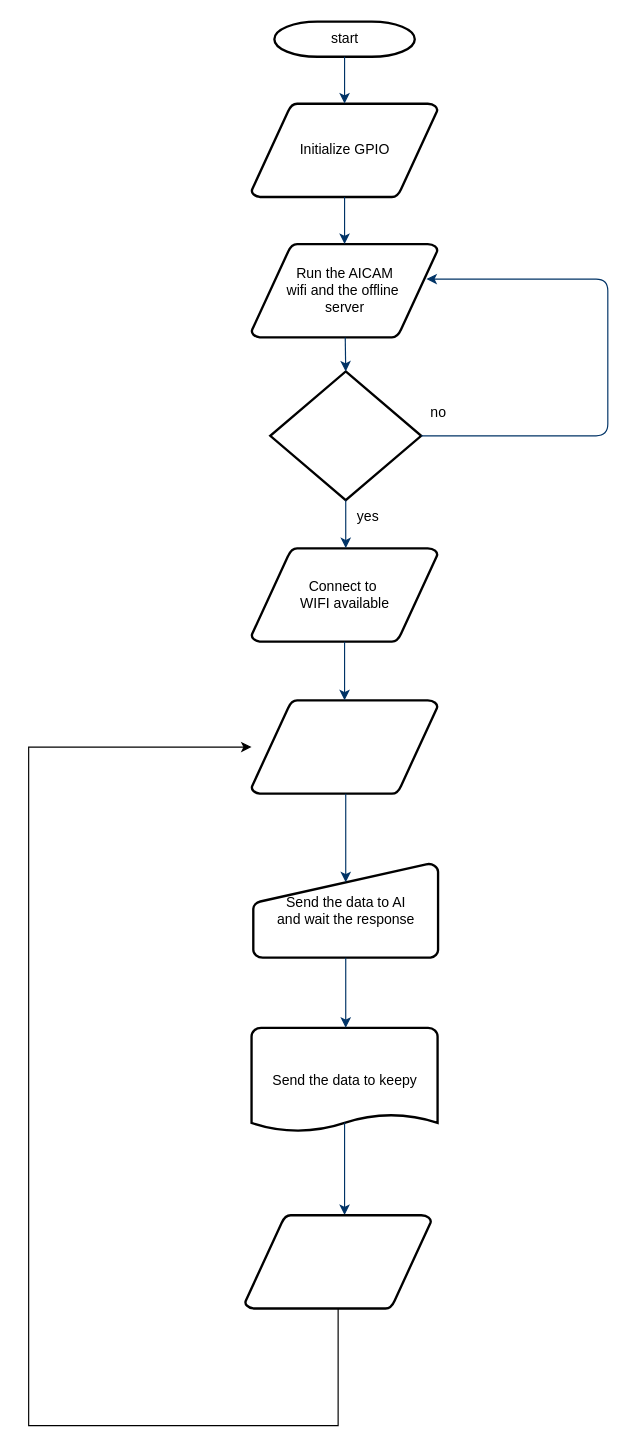
The diagram is 638 pixels wide and 1455 high, and some of its shapes have lost their labels. The shapes that lost their labels are listed below. From the top down, each one's centre as x and y in pixels, then its label:
At (345,435): "activation command received?".
At (344,746): "Take a picture and encode it in base64".
At (337,1261): "Wait 3 seconds".
